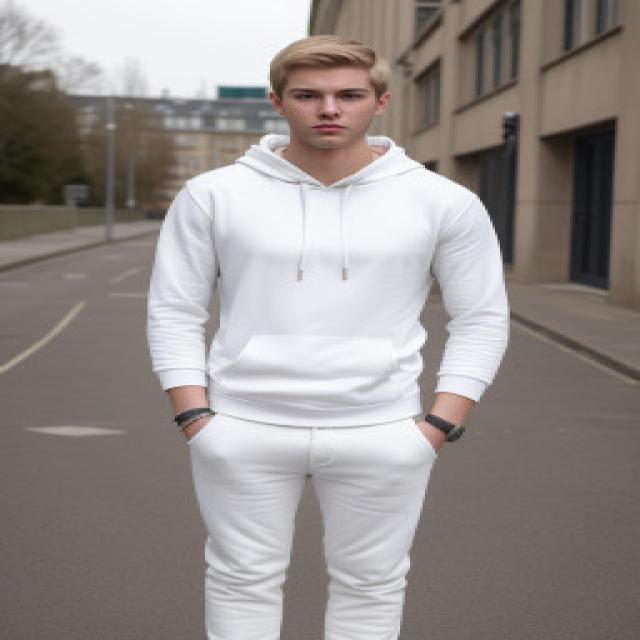Ai human 2: (134, 17, 524, 640)
